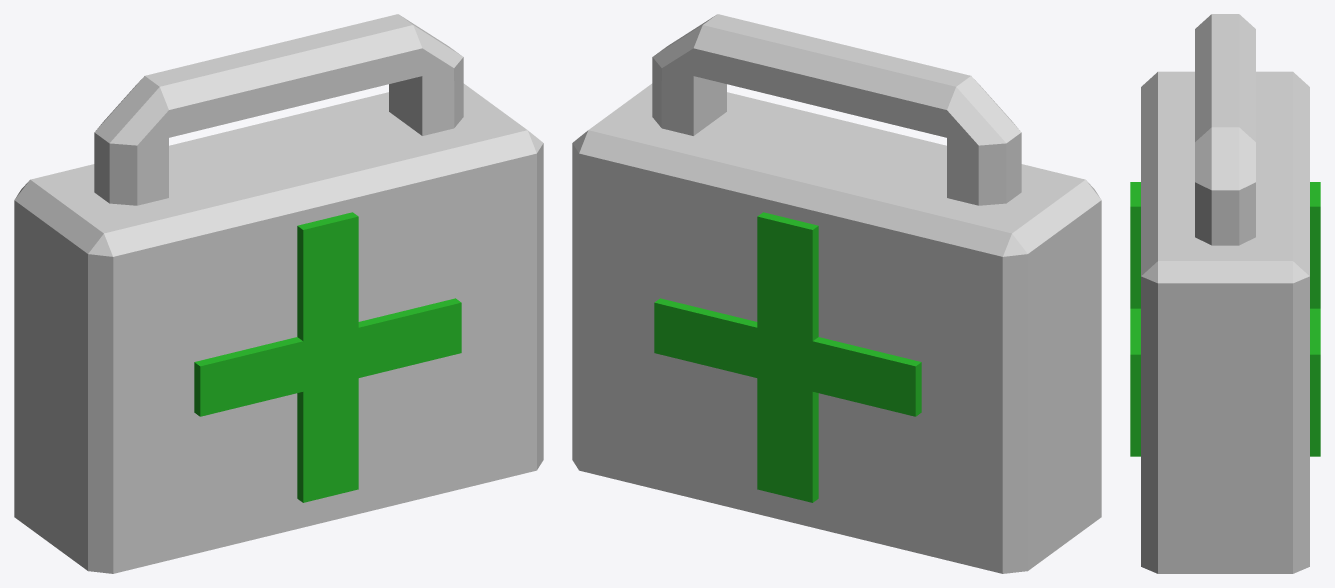
File: HealthPack.fbx
3 renders of one model, left to right at view 1: azimuth 30°, elevation 25°; view 2: azimuth 150°, elevation 25°; view 3: azimuth 270°, elevation 25°, orthographic. The views are drawn at different scales.
Parts seen in each view (by area): view 1: Cube; view 2: Cube; view 3: Cube.
Part boxes in pixels (x1,y1,x2,y2): Cube: [14, 14, 543, 573]; Cube: [572, 14, 1101, 573]; Cube: [1130, 14, 1320, 573].
Bounding box in the file's own units: 200 × 184 × 78.97.
